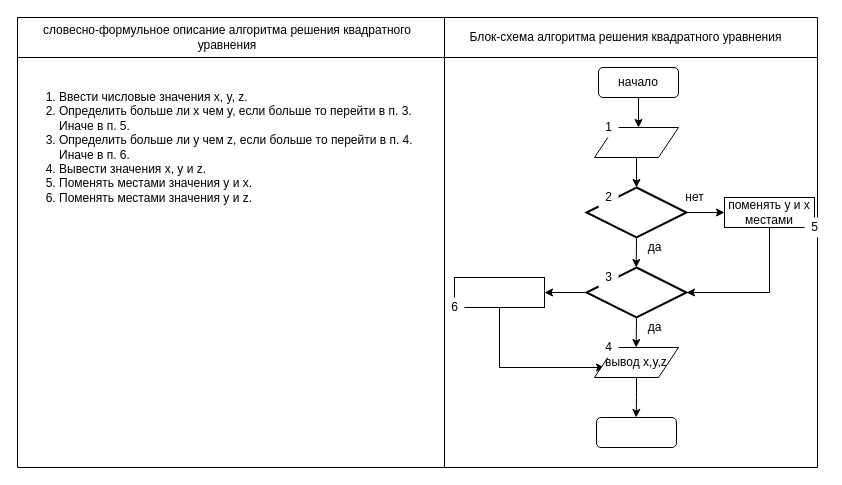
Some shapes in this 842 by 485 pixel diagram are drawn without their labels. The box of each missing label's shape, as (x1, y1, x2, y2) in pixels:
x>=y: (585, 186, 687, 238)
y>=z: (585, 266, 687, 318)
ввод x,y,z: (594, 126, 678, 158)
конец: (596, 416, 676, 448)
поменять y и z местами: (454, 276, 544, 308)
